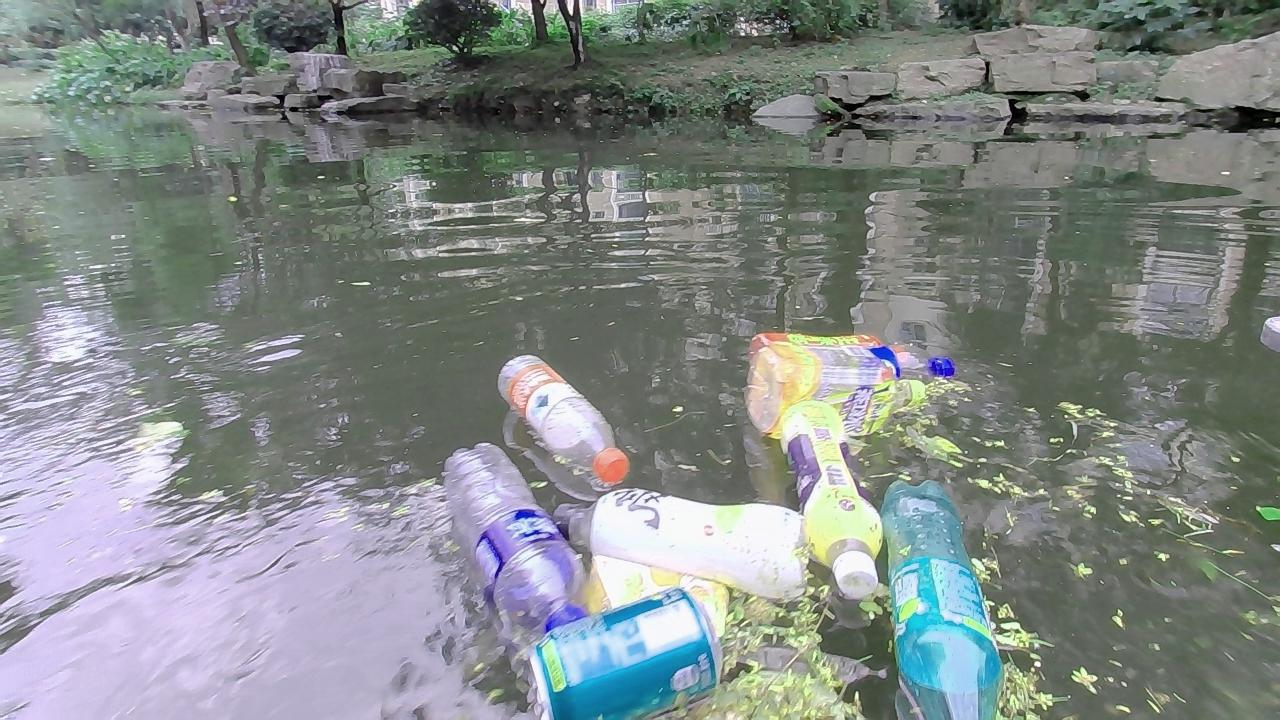Metal: (522, 585, 723, 720)
Plastic: (876, 477, 1010, 720), (549, 486, 812, 602), (438, 439, 590, 636), (774, 401, 885, 598), (495, 351, 631, 486), (744, 342, 927, 441), (747, 329, 909, 364), (842, 343, 957, 385)
